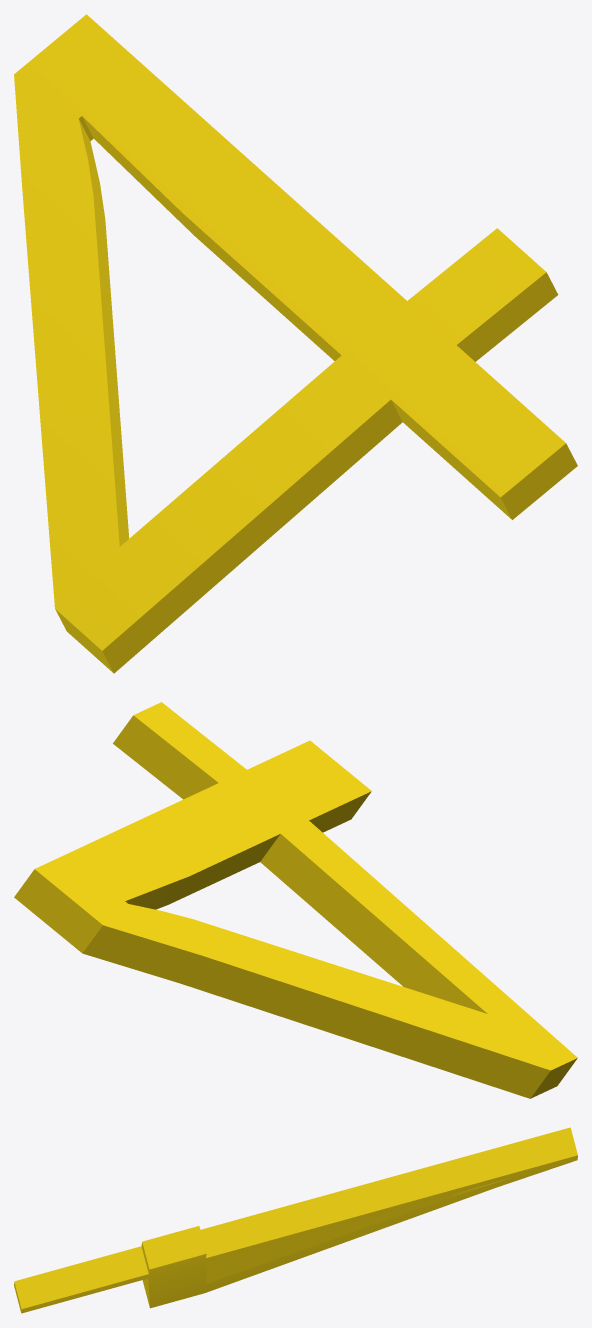
Rendered from Number_4.gltf.
3 views of the same model, one above another, from view 1: azimuth 30°, elevation 25°; view 2: azimuth 150°, elevation 25°; view 3: azimuth 270°, elevation 25° (orthographic). The views are drawn at different scales.
Visible parts, largest first — view 1: Sub_9_Cell_3_2_Number_4; view 2: Sub_9_Cell_3_2_Number_4; view 3: Sub_9_Cell_3_2_Number_4.
Part boxes in pixels (<box>): Sub_9_Cell_3_2_Number_4: <box>14,14,577,673</box>; Sub_9_Cell_3_2_Number_4: <box>14,702,577,1098</box>; Sub_9_Cell_3_2_Number_4: <box>14,1127,577,1313</box>.
Size of the model in its own units: 0.0171 by 0.0133 by 0.0247.
